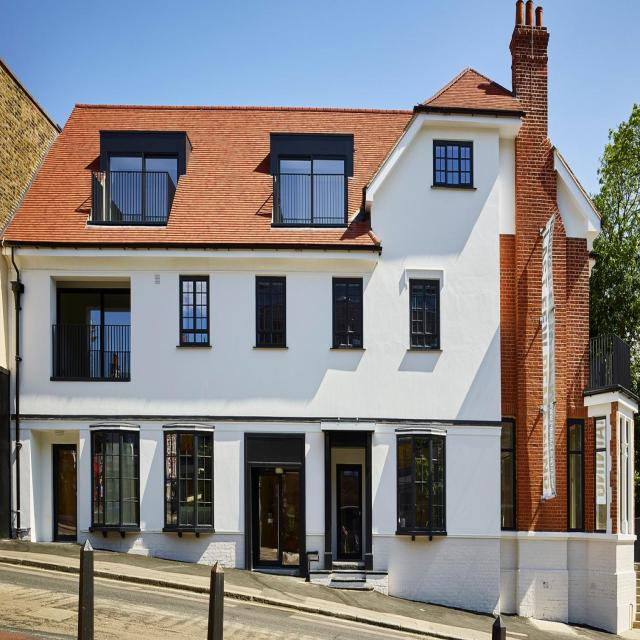Railing: (92, 171, 176, 228), (52, 323, 132, 380), (273, 174, 345, 225), (590, 333, 631, 392)
door: (252, 469, 300, 568), (334, 462, 362, 562), (52, 442, 78, 544)
plant: (590, 104, 640, 401)
wall: (0, 0, 639, 637)
windows: (162, 429, 214, 533), (394, 432, 446, 534), (92, 422, 139, 528), (178, 272, 212, 348), (255, 276, 288, 350), (432, 139, 475, 192), (110, 154, 178, 186), (409, 278, 440, 345), (333, 280, 363, 347), (568, 418, 585, 530), (500, 416, 516, 530), (278, 153, 347, 173), (86, 300, 130, 324)
